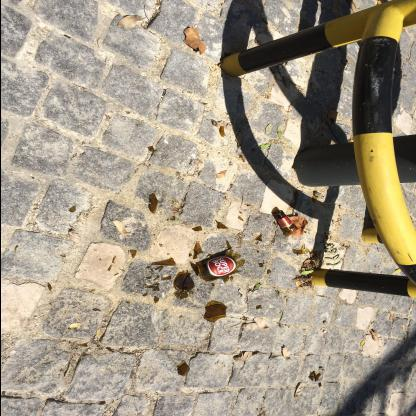cam: (195, 253, 245, 283), (273, 211, 301, 239), (174, 273, 196, 293), (204, 305, 228, 323)
